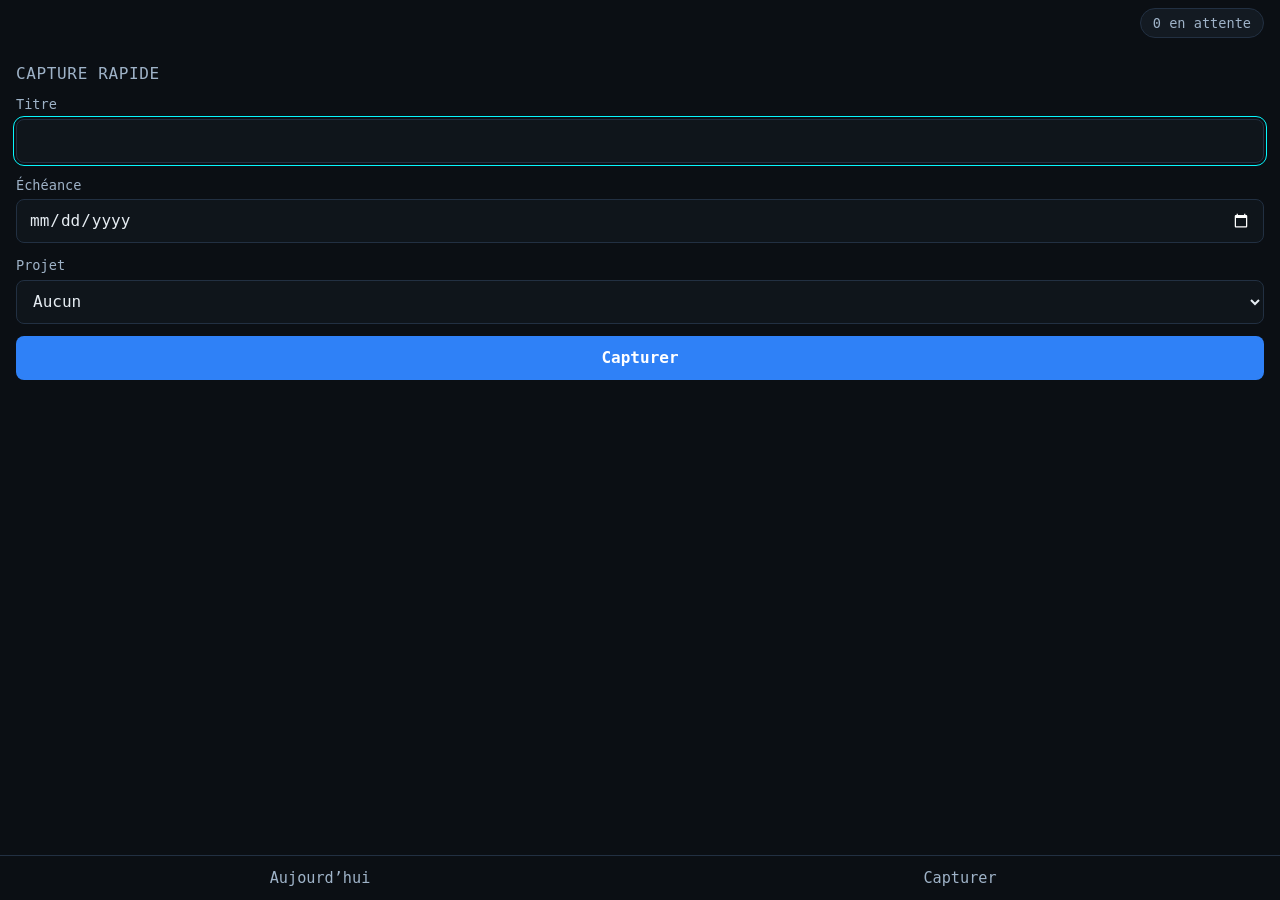
CapturePage — file hors ligne à l’échec de la mutation › met la capture en file quand la mutation échoue
The width and height of the screenshot is (1280, 900).
Type "Rappeler Jihane" into the field labelled "Titre" at [640, 141], box 16,119 -> 1264,163
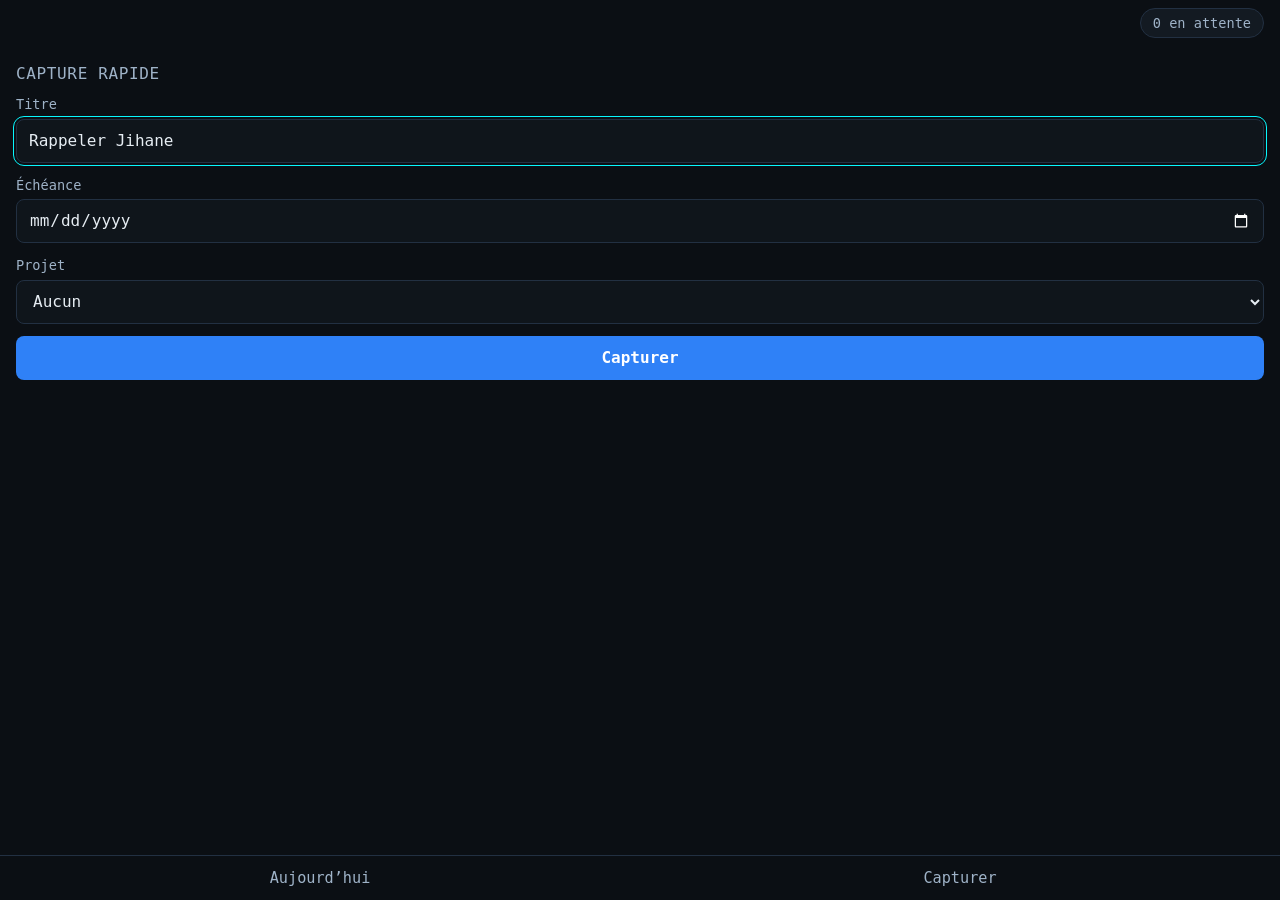
Click the button "Capturer" at [640, 358], box 16,336 -> 1264,380
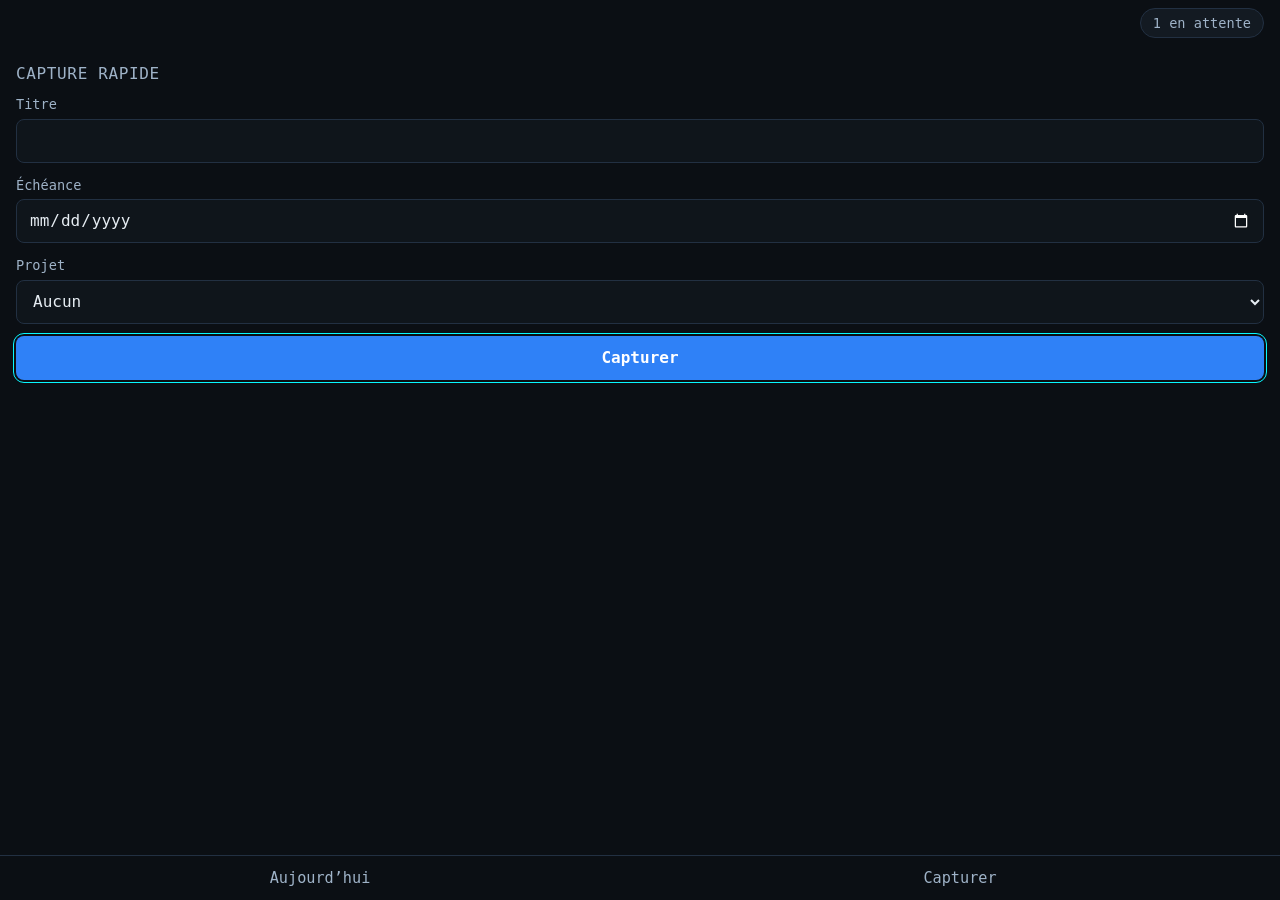
Expected: the text "1 en attente" is shown, 1140,8 -> 1264,38
